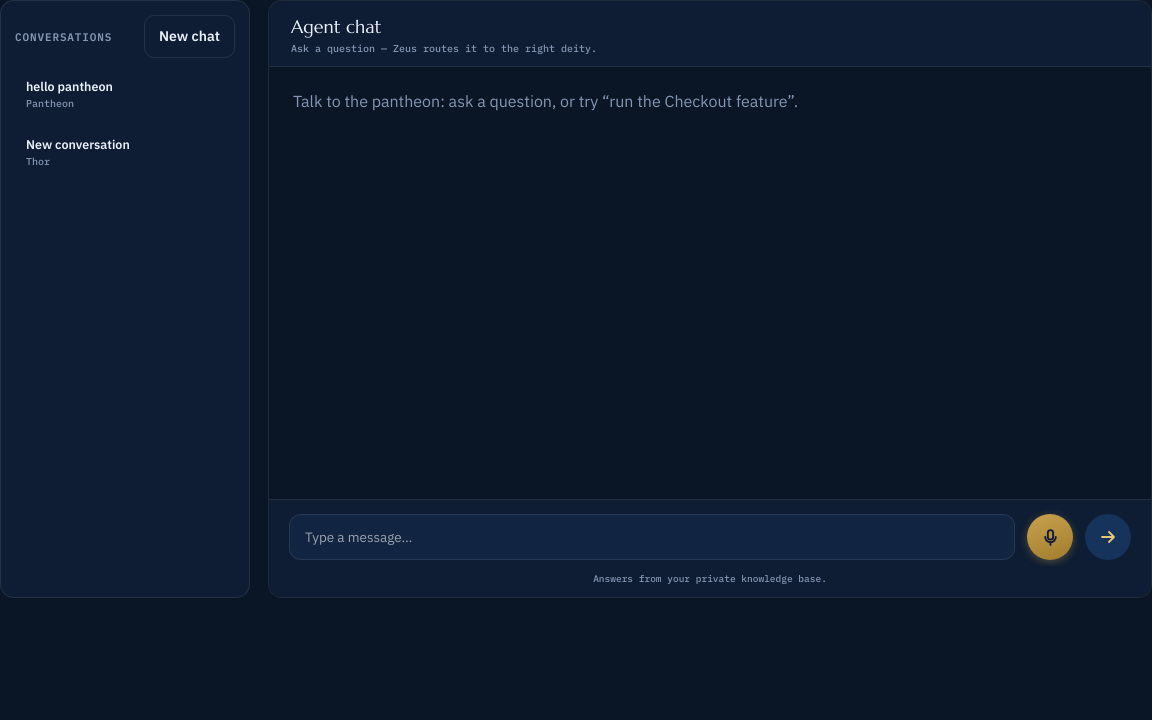
Test: ChatScreen (slice 11 re-skin) › surfaces send failures as an alert and re-enables the composer
Expected: the text "hello pantheon" is shown, [26,78,113,94]
Type "doomed" into the field labelled "message".
click(652, 537); type("doomed")  # box [289,514,1015,560]
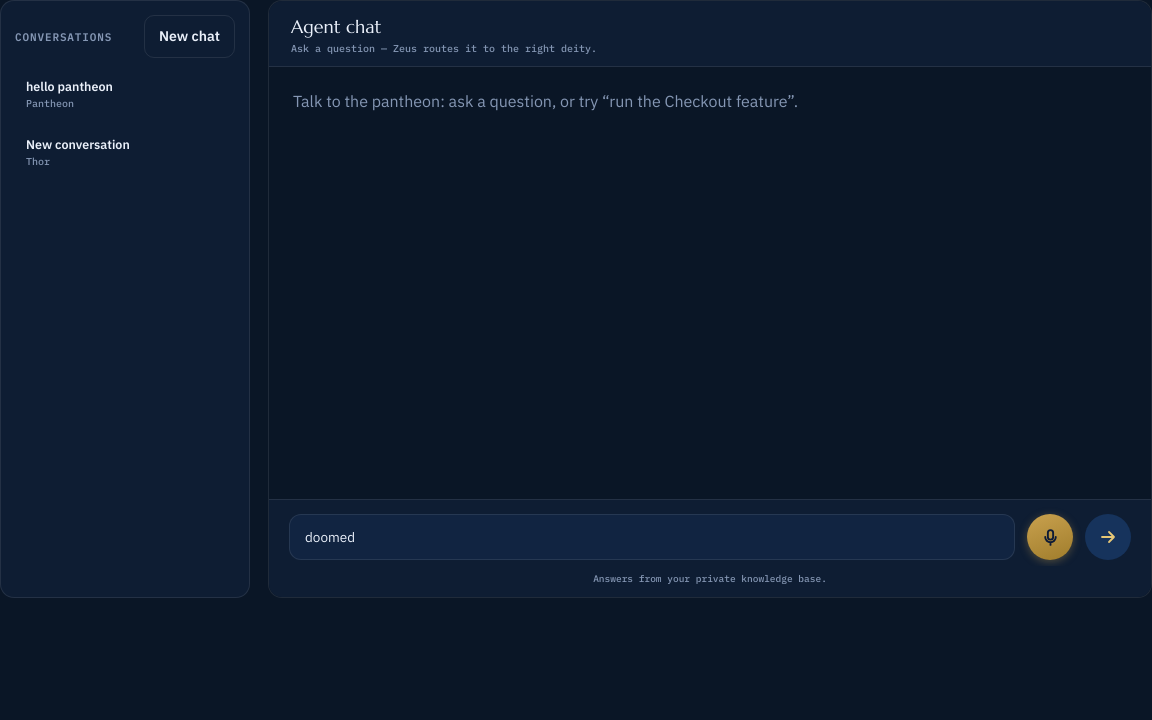
Click the button named "Send".
click(1108, 537)  # box [1085,514,1131,560]
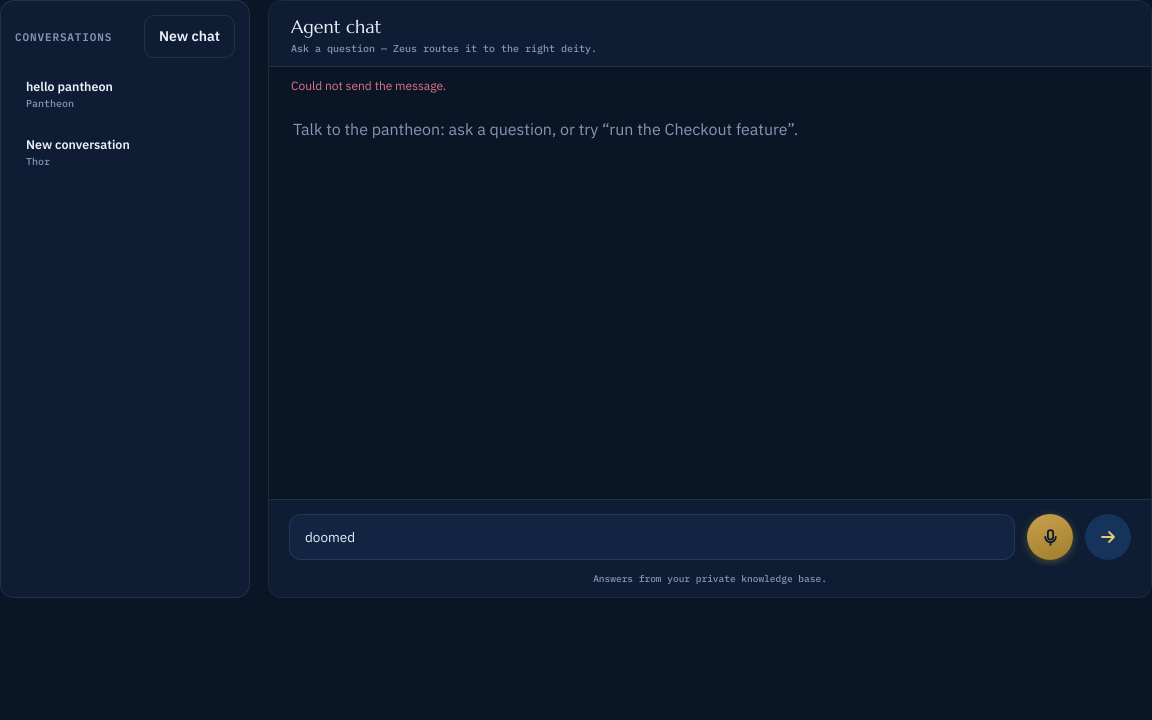
Expected: the field named "message" is enabled, [289,514,1015,560]
Now the message reads "Could not send the message.", box [291,78,446,93]
